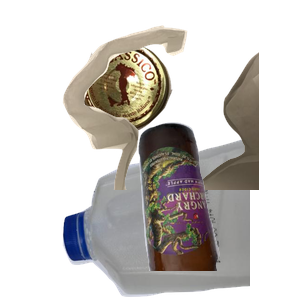glass: (136, 120, 300, 300)
metal: (78, 37, 243, 163)
plastic: (60, 135, 300, 300)
trash: (60, 23, 300, 203)
